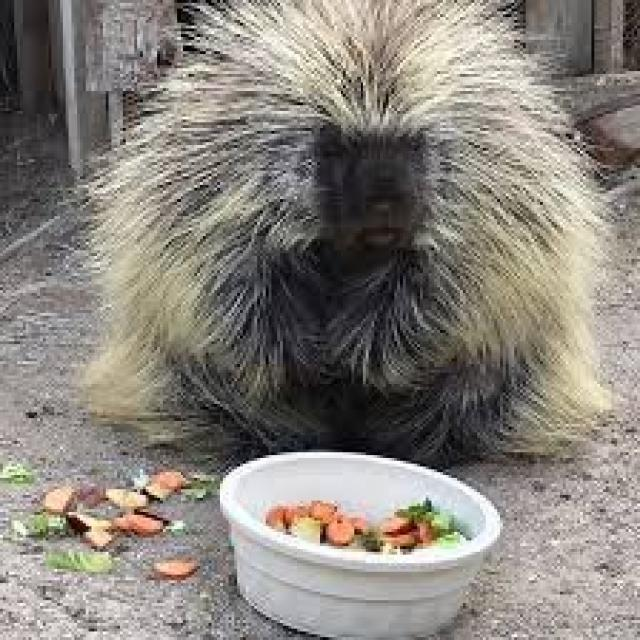Porcupine: (103, 0, 578, 443)
